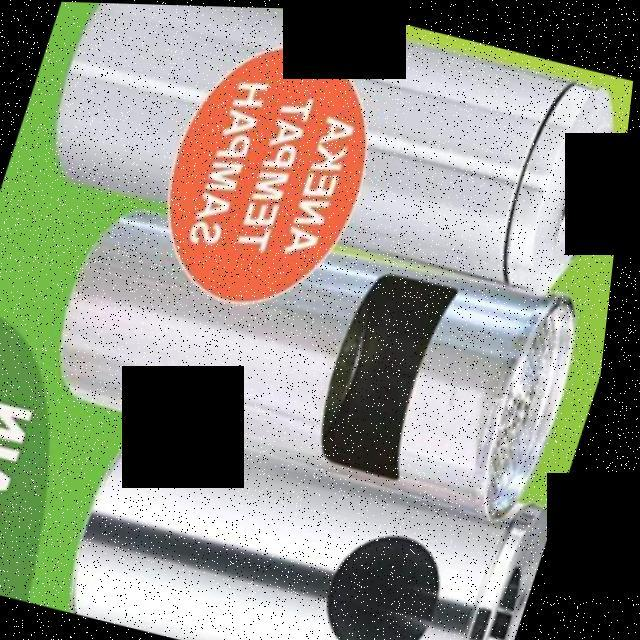bin: (42, 178, 610, 520), (33, 1, 640, 292), (43, 395, 576, 640)
